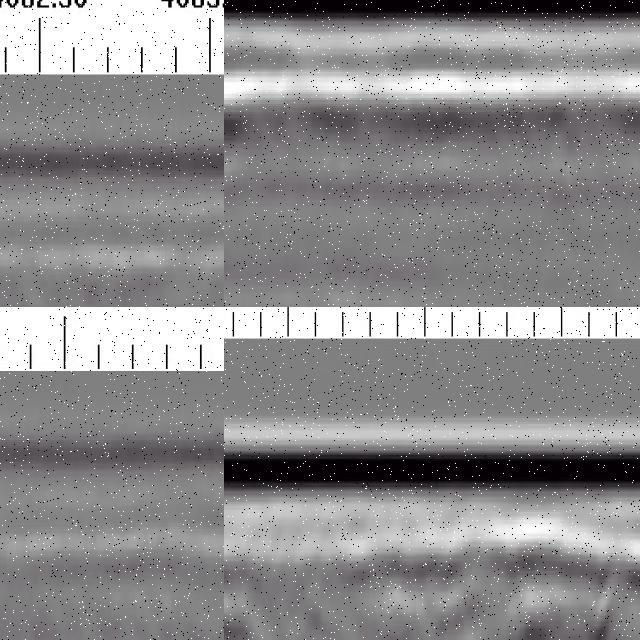loose: (225, 514, 623, 640)
